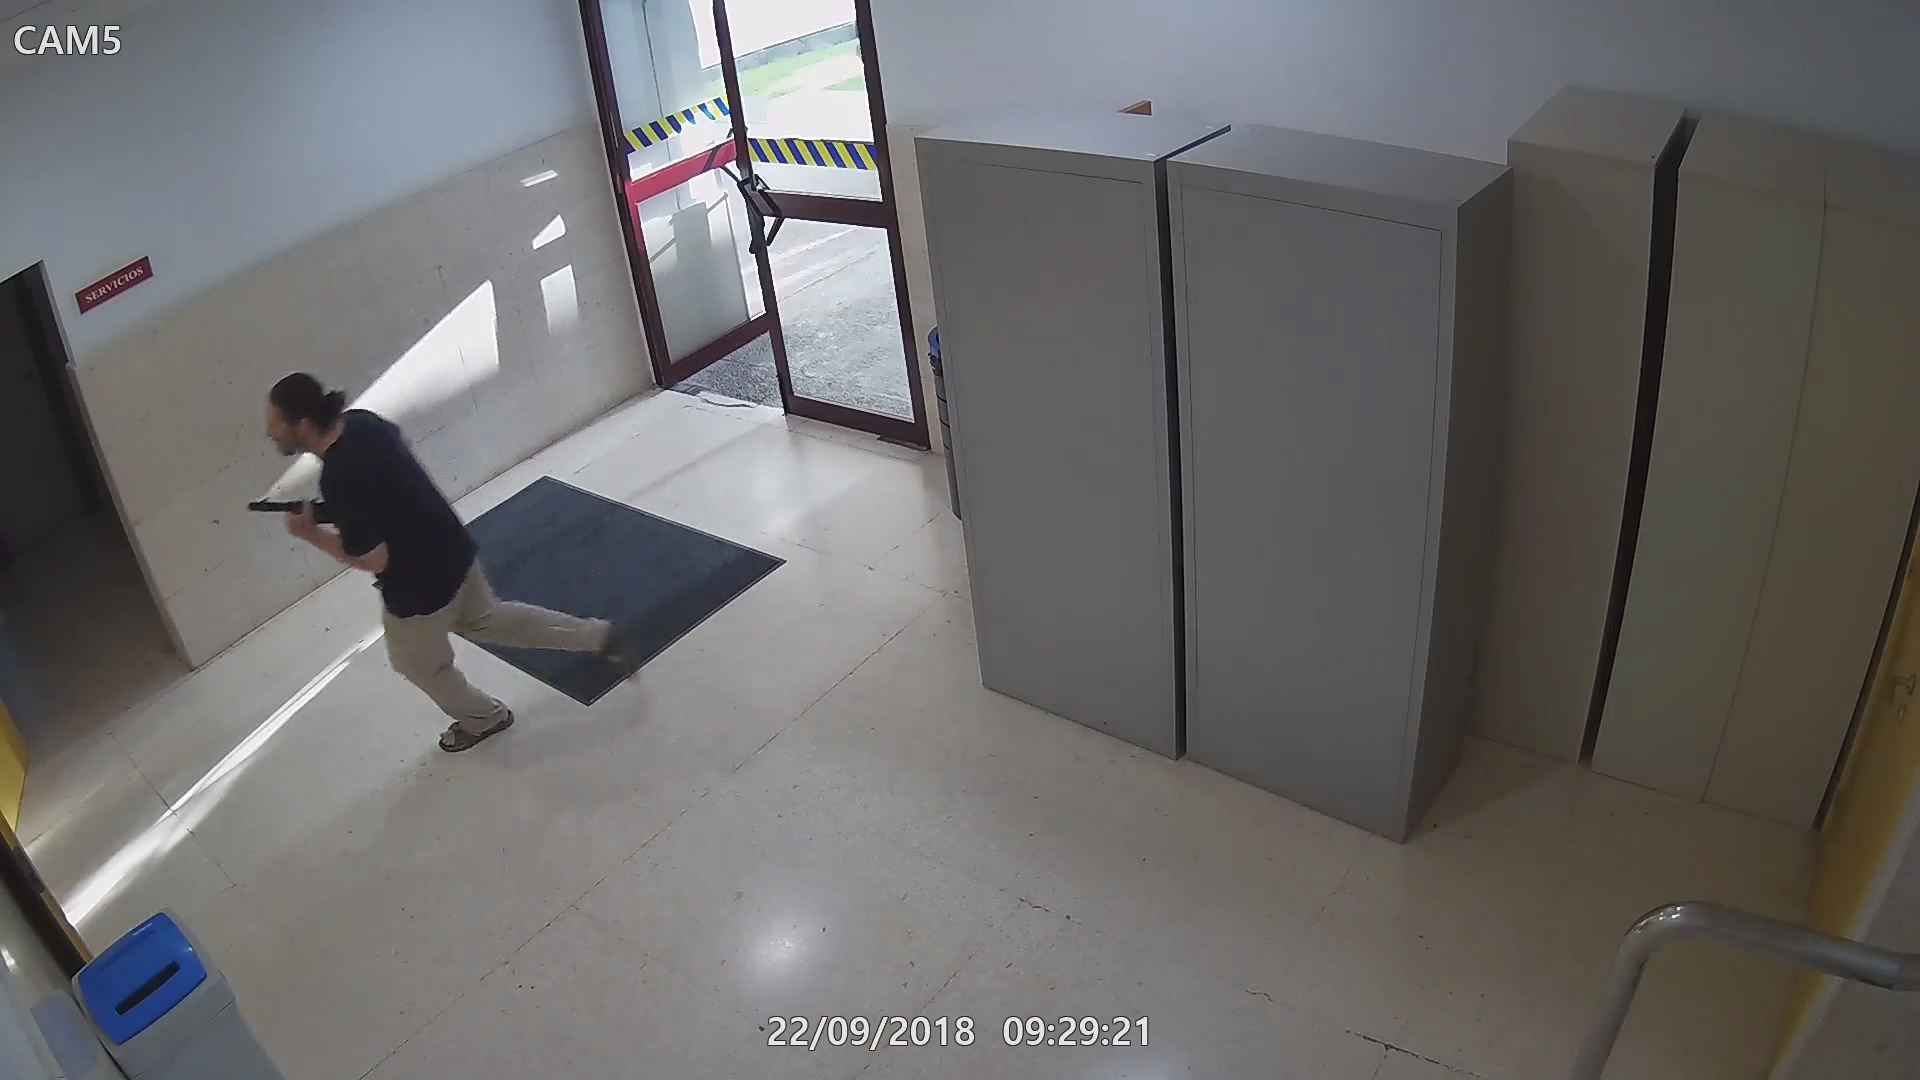rifle: (240, 497, 345, 555)
